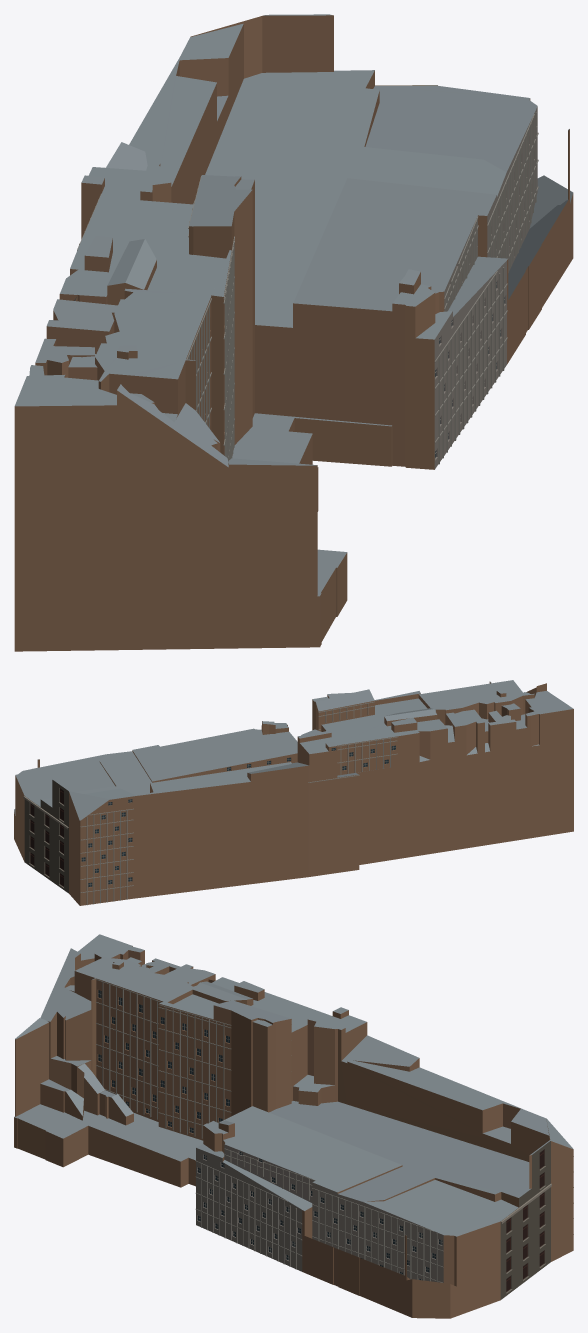
Rendered from recipe-large-warmoesstraat-garage-165687.glb.
3 renders of one model, top to bottom at view 1: azimuth 30°, elevation 25°; view 2: azimuth 150°, elevation 25°; view 3: azimuth 270°, elevation 25°, orthographic. The views are drawn at different scales.
Visible parts, largest first — view 1: warmoesstraat-garage-165687; view 2: warmoesstraat-garage-165687; view 3: warmoesstraat-garage-165687.
Boxes of the visible parts, <box> form: warmoesstraat-garage-165687: <box>14,14,573,651</box>; warmoesstraat-garage-165687: <box>14,680,573,905</box>; warmoesstraat-garage-165687: <box>14,934,573,1318</box>.
Bounding box in the file's own units: 100 × 32.46 × 99.34.
